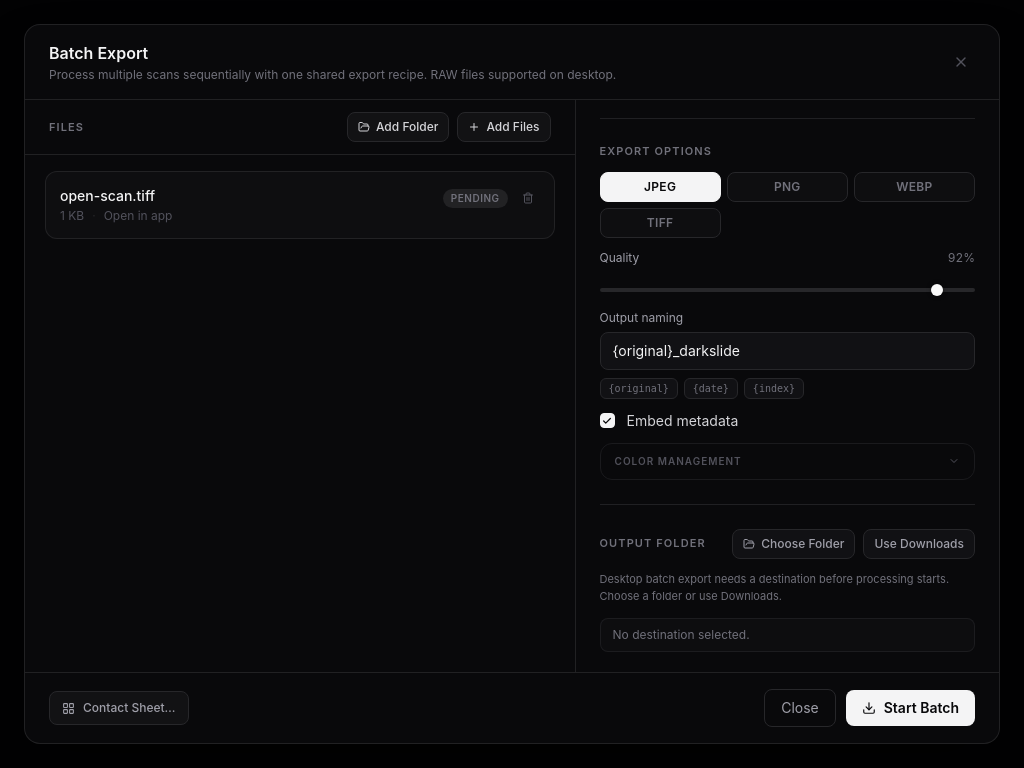
BatchModal › does not re-prompt when a desktop destination is already selected
(page scrolled)
expect the text "open-scan.tiff" is shown: met, box top-left (60, 187), bottom-right (155, 204)
Click the button "Choose Folder".
click(794, 544)  # box top-left (732, 528), bottom-right (856, 558)
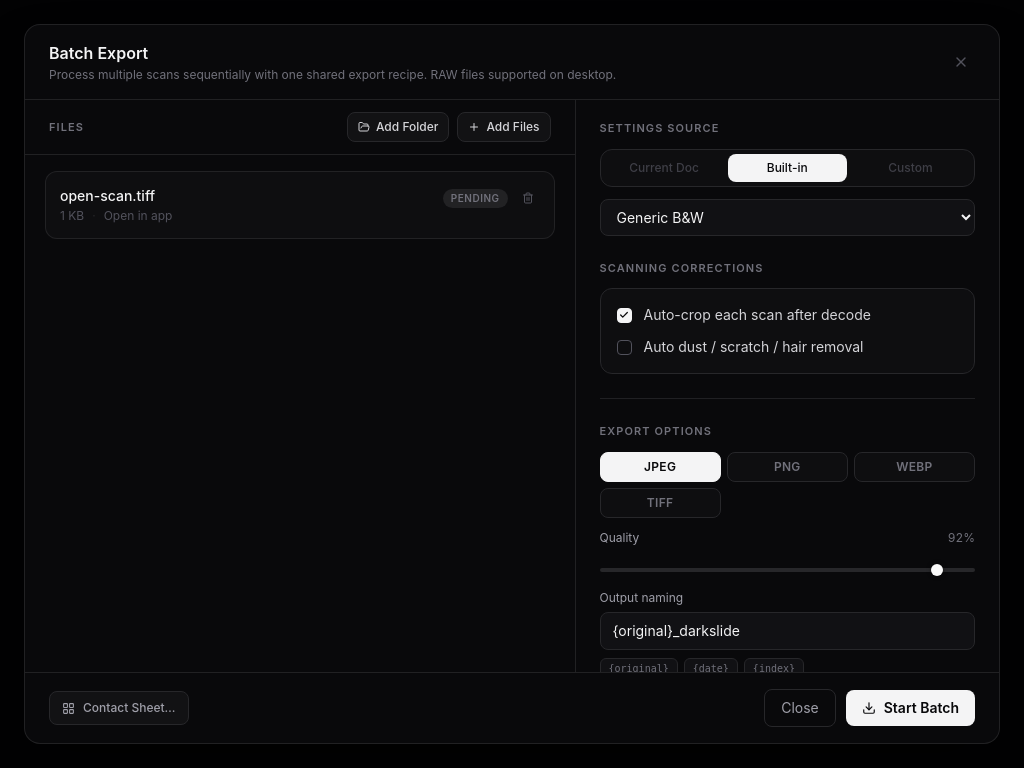
Click the button "Start Batch".
click(910, 708)  # box top-left (846, 690), bottom-right (975, 726)
(page scrolled)
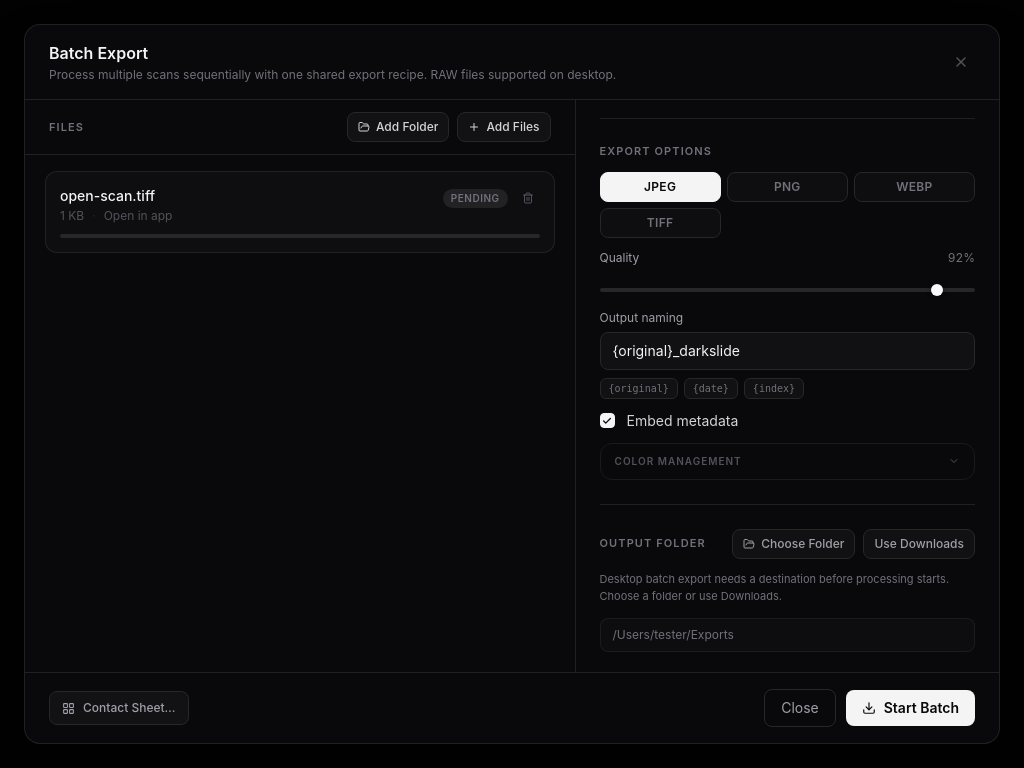
expect the text "/Users/tester/Exports" is shown: met, box top-left (600, 618), bottom-right (975, 652)
